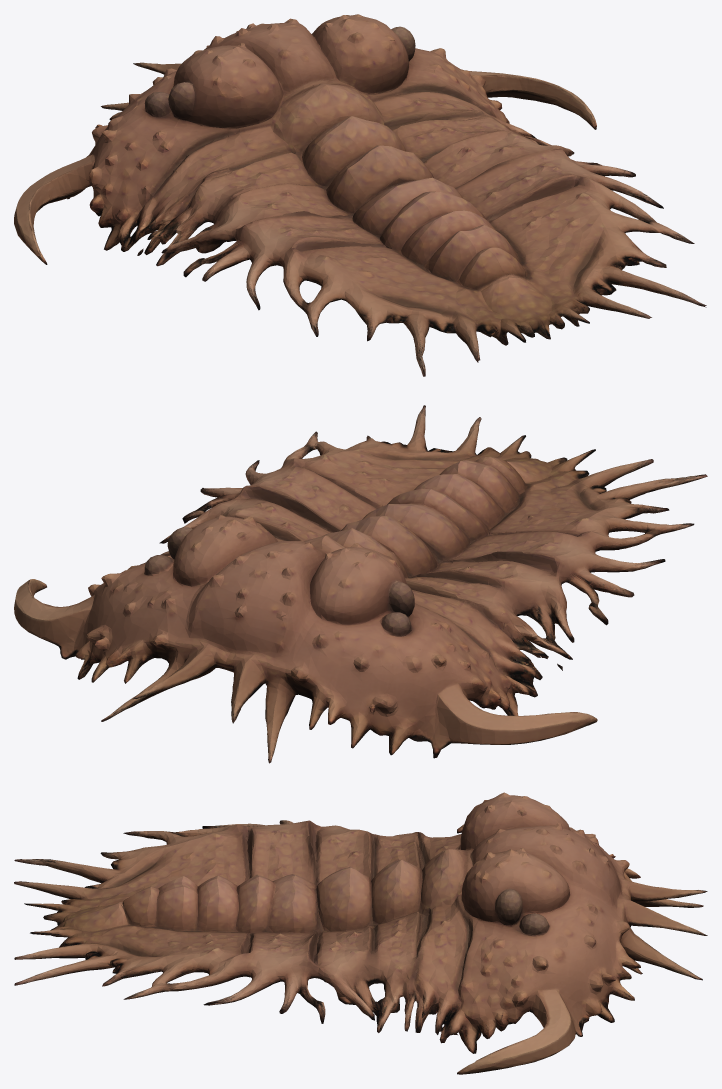
3 views of the same model, one above another, from view 1: azimuth 30°, elevation 25°; view 2: azimuth 150°, elevation 25°; view 3: azimuth 270°, elevation 25° (orthographic). The views are drawn at different scales.
Parts seen in each view (by area): view 1: world; view 2: world; view 3: world.
Boxes of the visible parts, left/top/right/bottom form: world: left=14, top=14, right=706, bottom=376; world: left=14, top=405, right=707, bottom=763; world: left=14, top=792, right=707, bottom=1074.
Bounding box in the file's own units: 0.8284 × 0.216 × 0.9809.
2 materials, 2 textured.
